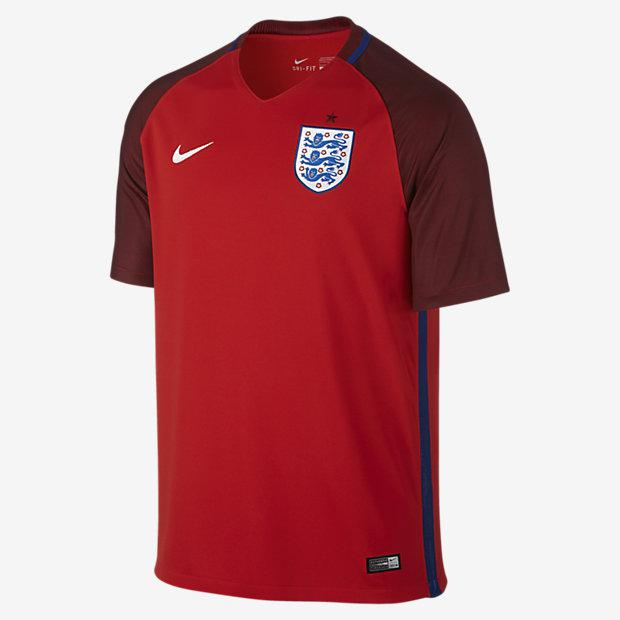teeshirt: (99, 13, 503, 620)
